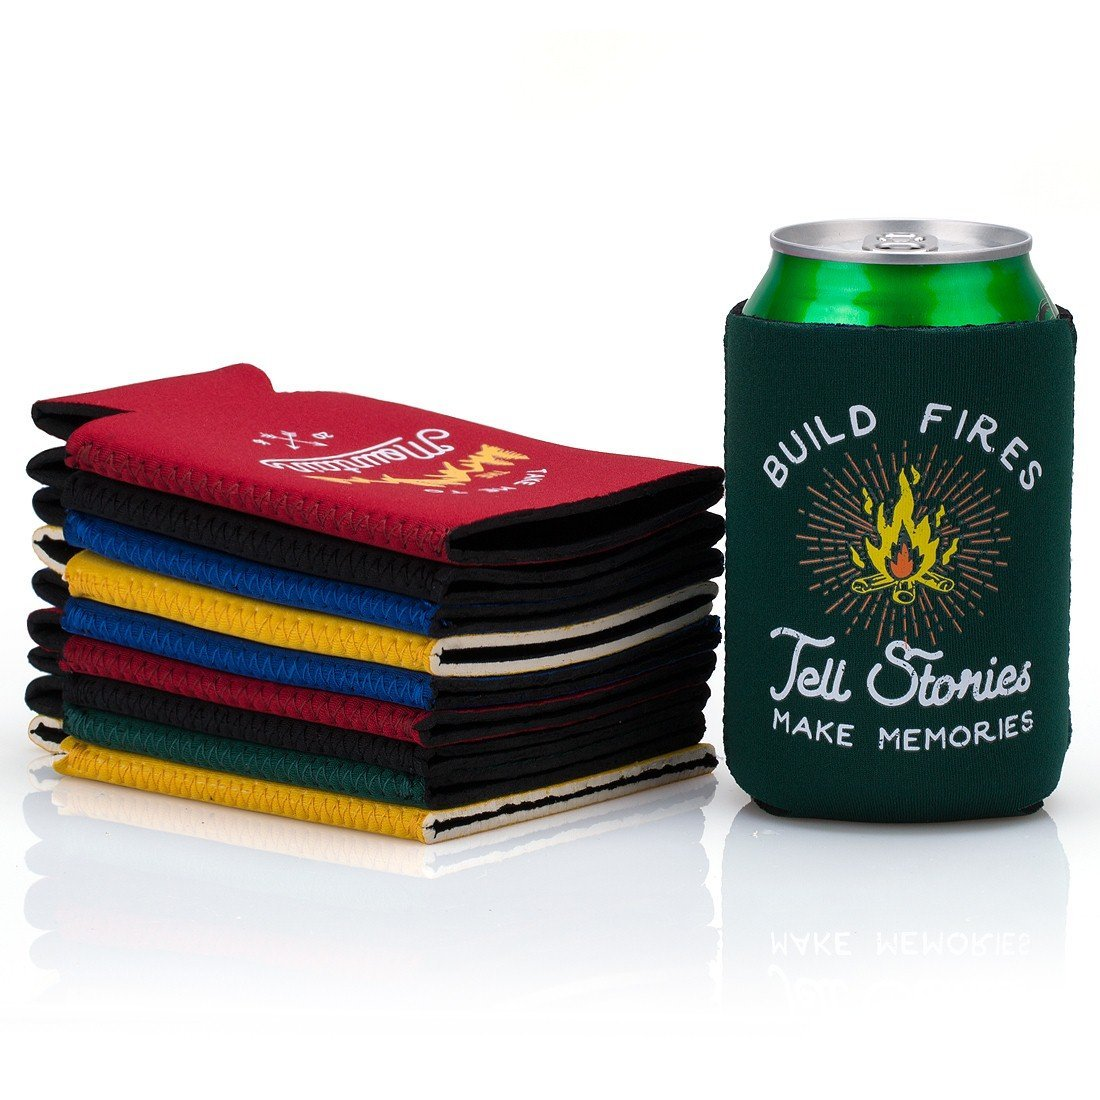beer can: (729, 214, 1071, 822)
